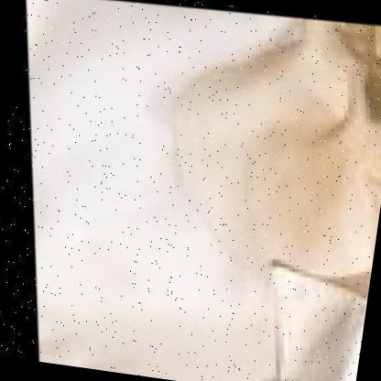coffee: (260, 47, 381, 204)
